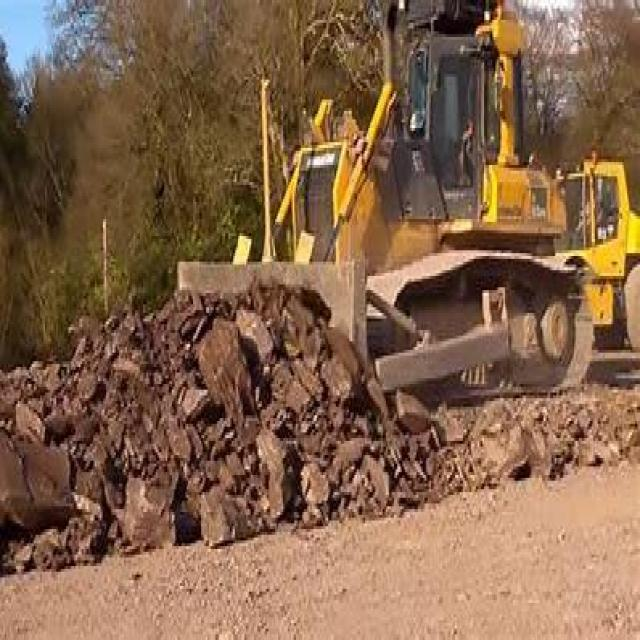Bulldozer: (138, 0, 624, 455)
